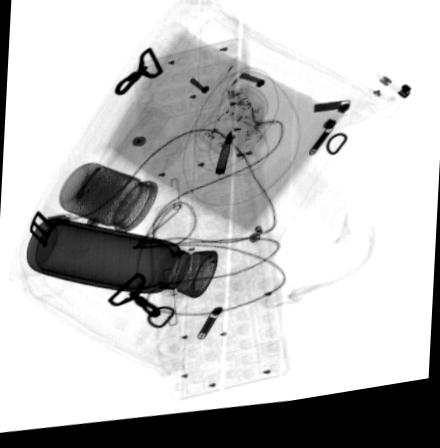Bullet: (214, 136, 232, 184)
